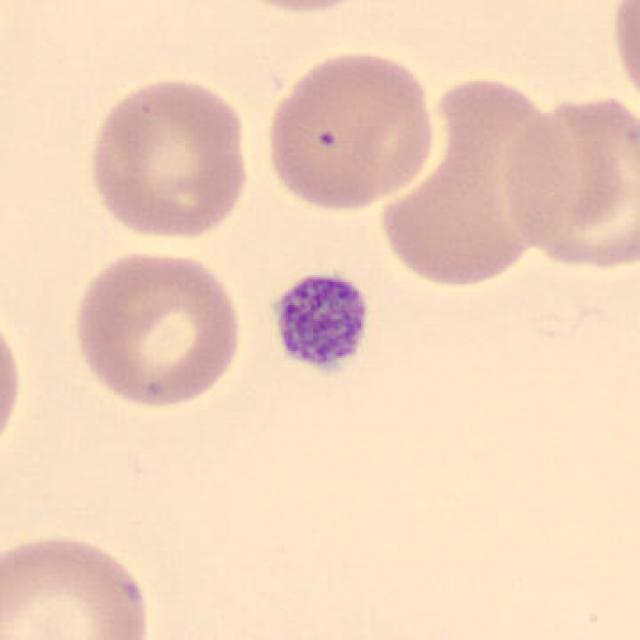Platelets: (265, 266, 373, 378)
RBC: (386, 74, 580, 284), (260, 44, 442, 213), (82, 71, 256, 245), (68, 245, 247, 413), (498, 88, 638, 275), (0, 525, 158, 640), (0, 300, 27, 463), (608, 0, 640, 115), (210, 0, 388, 16)
